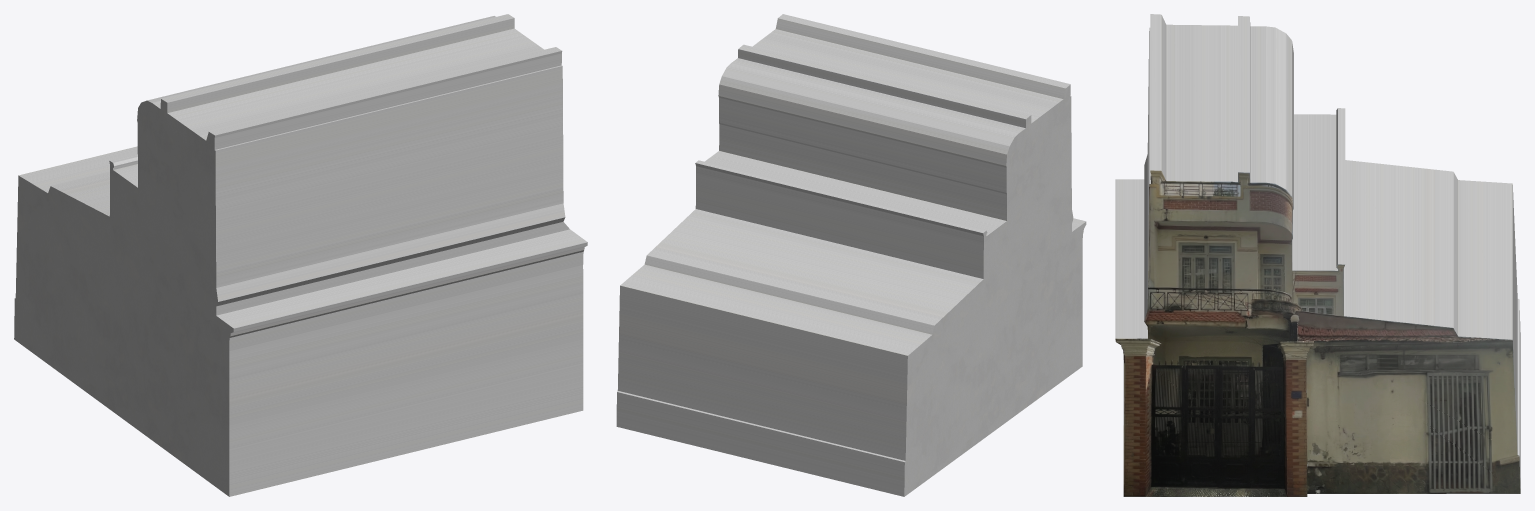
Rendered from RefHouse13.fbx.
3 views of the same model, side by side, from view 1: azimuth 30°, elevation 25°; view 2: azimuth 150°, elevation 25°; view 3: azimuth 270°, elevation 25° (orthographic). The views are drawn at different scales.
Visible parts, largest first — view 1: ReferenceHouse13; view 2: ReferenceHouse13; view 3: ReferenceHouse13.
Boxes of the visible parts, x1,y1,x2,y2 form: ReferenceHouse13: (14,14,587,496); ReferenceHouse13: (616,14,1086,496); ReferenceHouse13: (1115,14,1520,496).
Bounding box in the file's own units: 1148 × 1088 × 1235.
2 materials, 2 textured.
